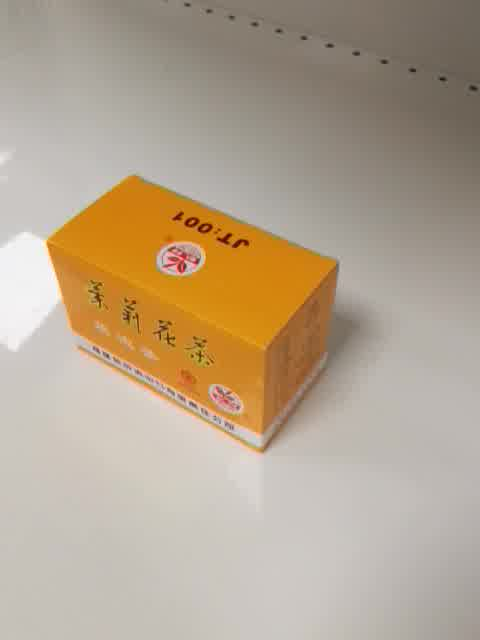jasminetea: (46, 174, 340, 456)
